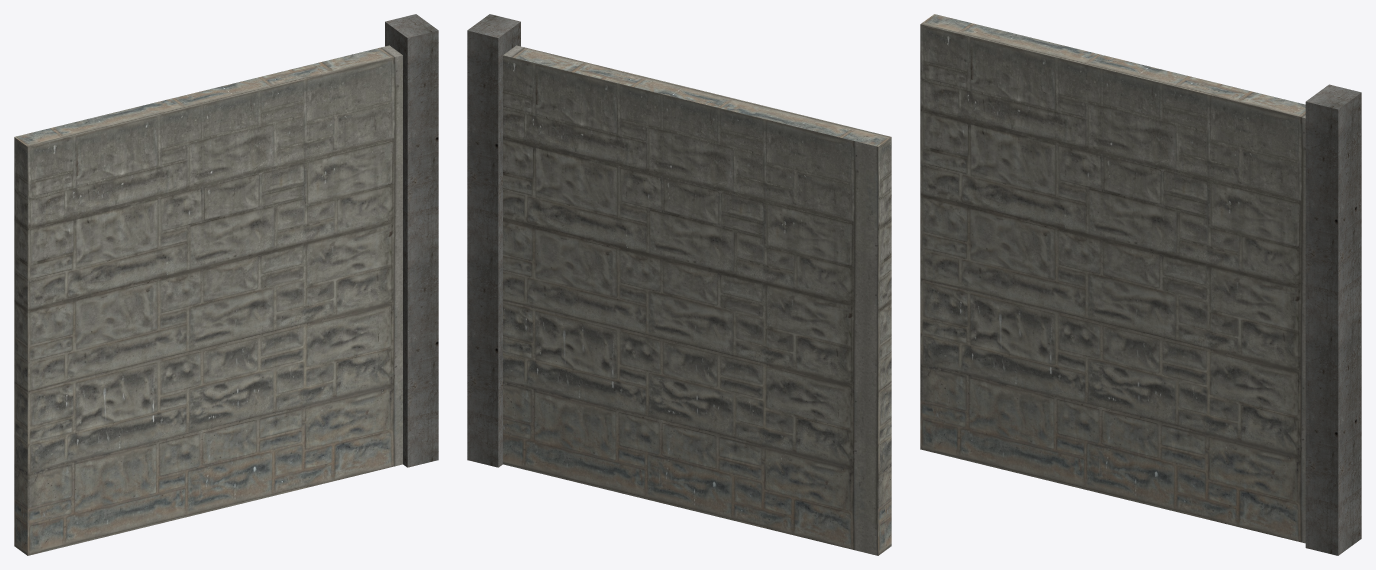
File: S1U_ConcreteFence_2m.fbx
The picture shows the model from 3 angles, left to right: view 1: azimuth 30°, elevation 25°; view 2: azimuth 150°, elevation 25°; view 3: azimuth 330°, elevation 25°; orthographic projection. The views are drawn at different scales.
Visible parts, largest first — view 1: S1U_ConcreteFence_2m; view 2: S1U_ConcreteFence_2m; view 3: S1U_ConcreteFence_2m.
Part boxes in pixels (x1,y1,x2,y2): S1U_ConcreteFence_2m: [14, 14, 438, 555]; S1U_ConcreteFence_2m: [467, 14, 891, 555]; S1U_ConcreteFence_2m: [920, 14, 1361, 555].
Bounding box in the file's own units: 2.08 × 2.1 × 0.2.
